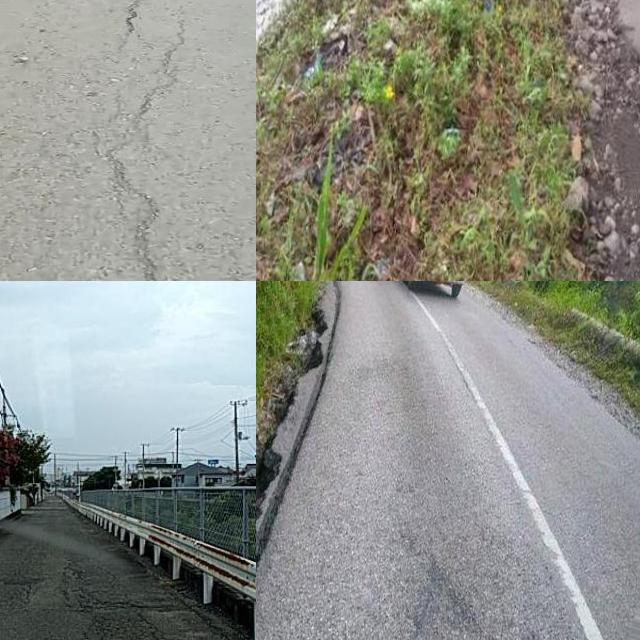Pinggir: (256, 281, 356, 640), (574, 0, 640, 281)
